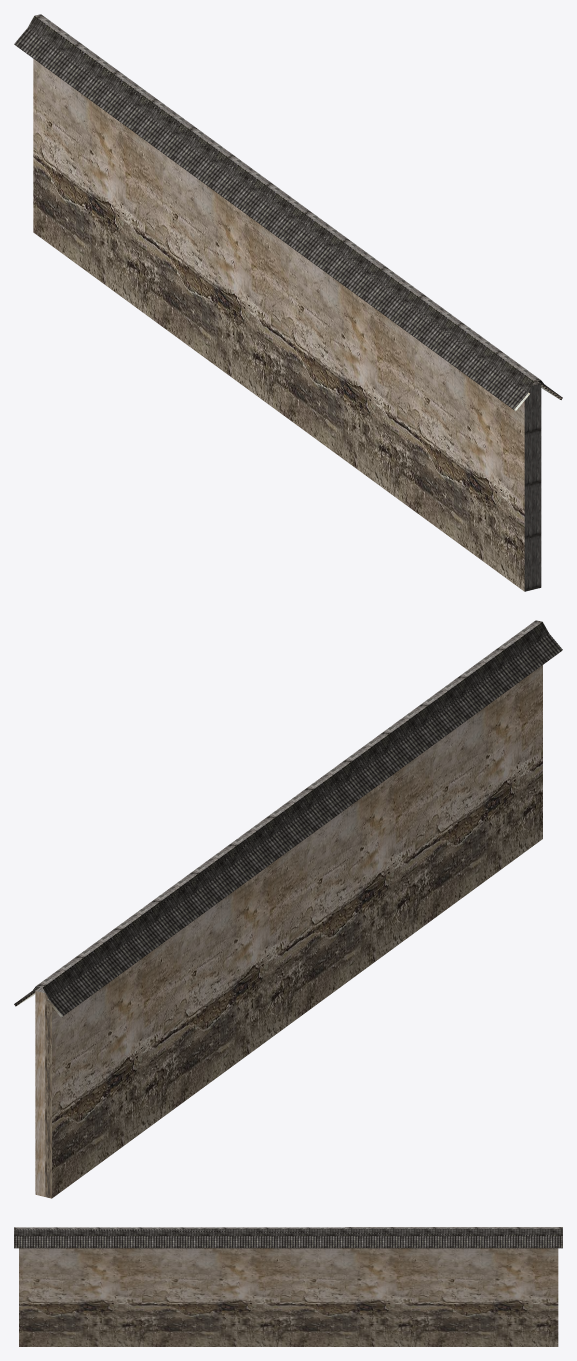
Rendered from ian1552.obj.
3 views of the same model, one above another, from view 1: azimuth 30°, elevation 25°; view 2: azimuth 150°, elevation 25°; view 3: azimuth 270°, elevation 25° (orthographic). The views are drawn at different scales.
Parts seen in each view (by area): view 1: ian1552; view 2: ian1552; view 3: ian1552.
Boxes of the visible parts, x1,y1,x2,y2 form: ian1552: (14, 14, 562, 591); ian1552: (14, 620, 562, 1198); ian1552: (14, 1227, 562, 1346).
Bounding box in the file's own units: 16.57 × 68.46 × 292.
